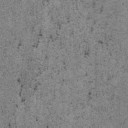oxide scale of temperature system: (30, 68, 45, 92), (17, 74, 26, 104), (48, 22, 60, 42), (32, 30, 42, 48), (98, 36, 112, 46), (88, 92, 97, 100), (84, 48, 90, 57), (8, 122, 16, 128), (18, 41, 21, 51)
